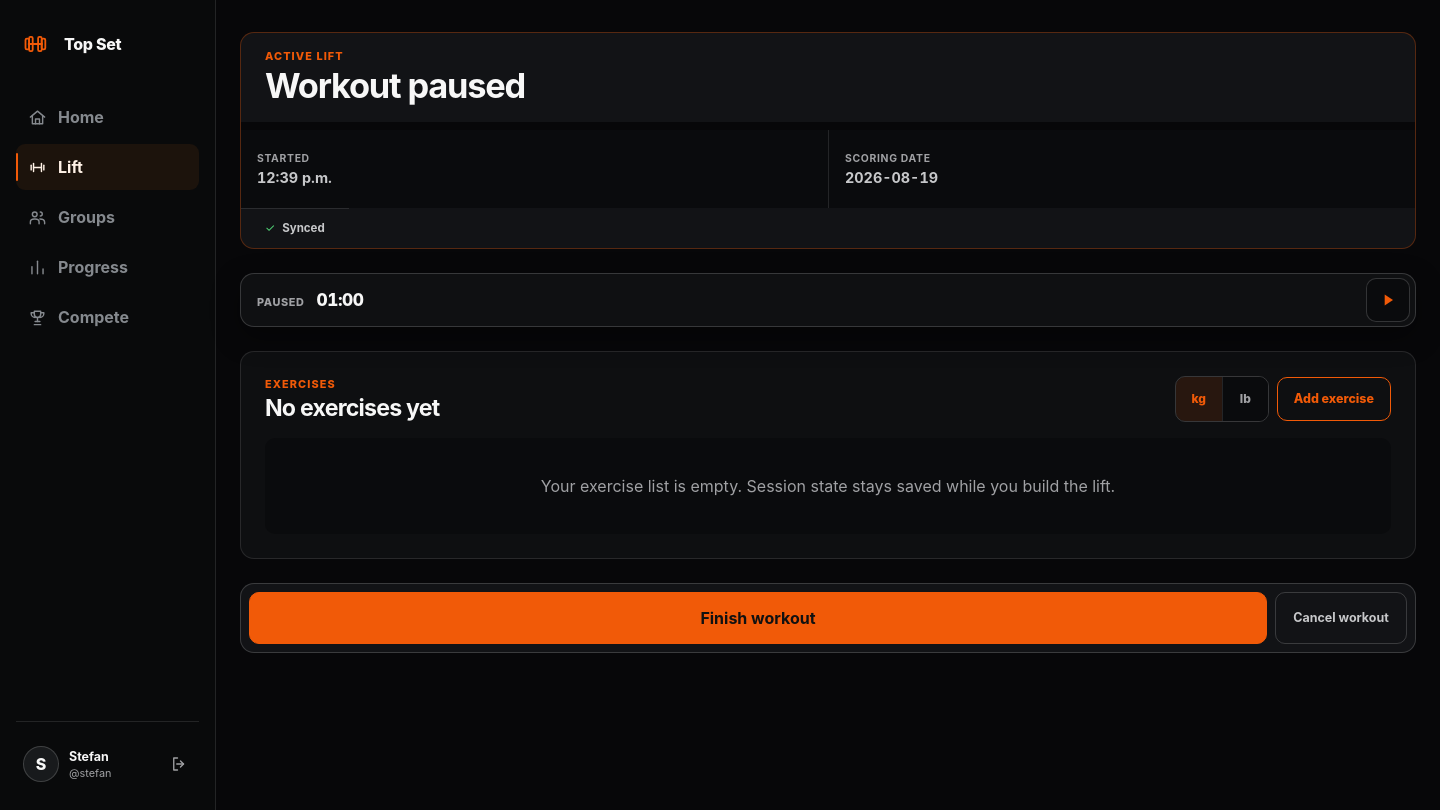
workout session presentation › resumes the visible clock immediately instead of waiting for the resume request
Click the button named "Resume timer" at (1388, 300), box [1366,278,1410,322]
Wait 4000 ms
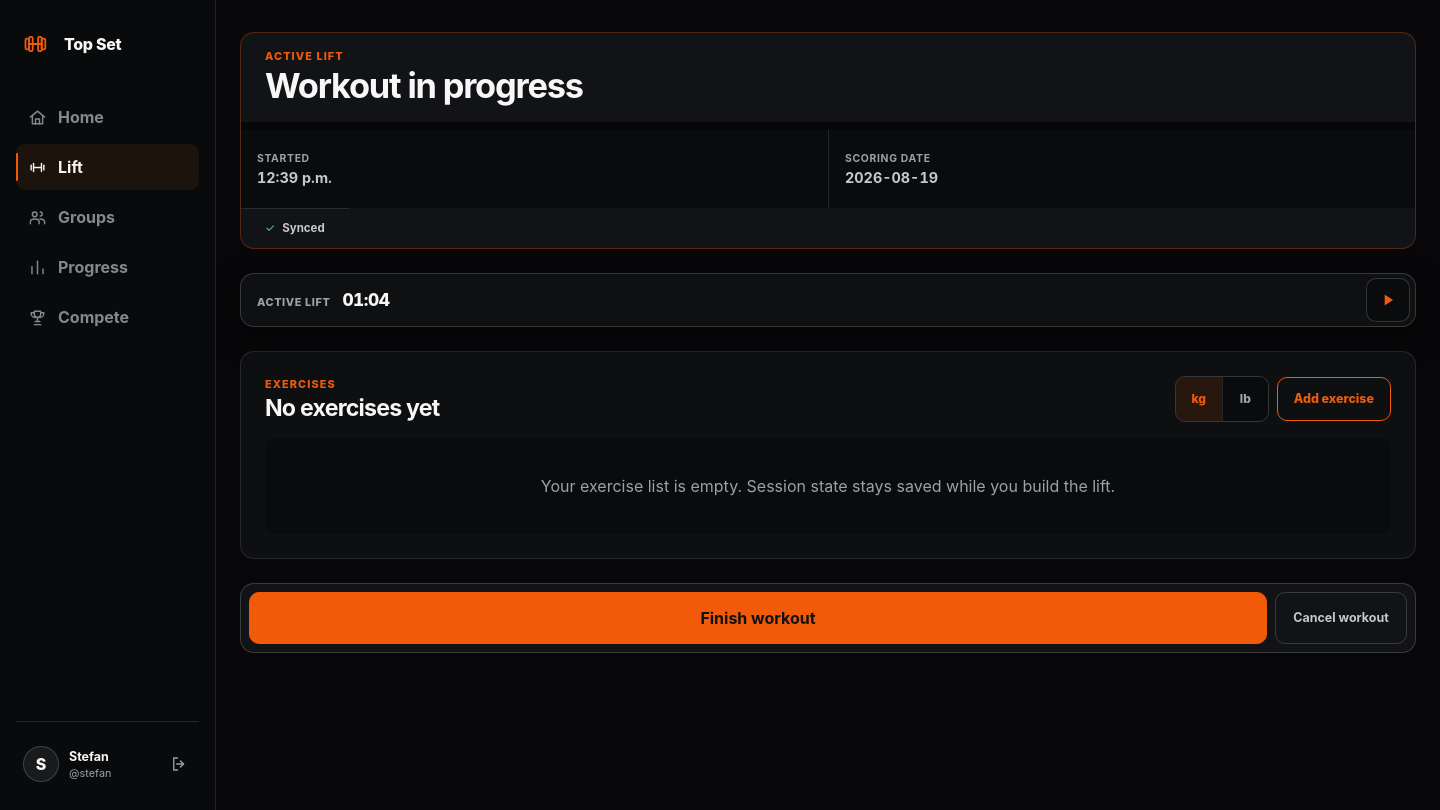
Check: the heading "Workout in progress" is shown, box [265,67,583,106]
Check: the text "01:04" is shown, box [342,289,390,310]
